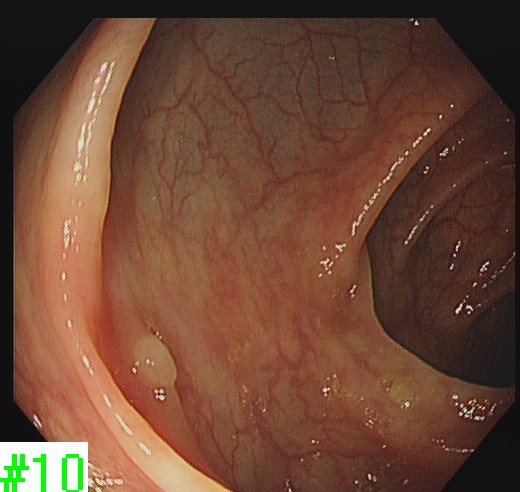adenoma: (128, 329, 180, 392)
